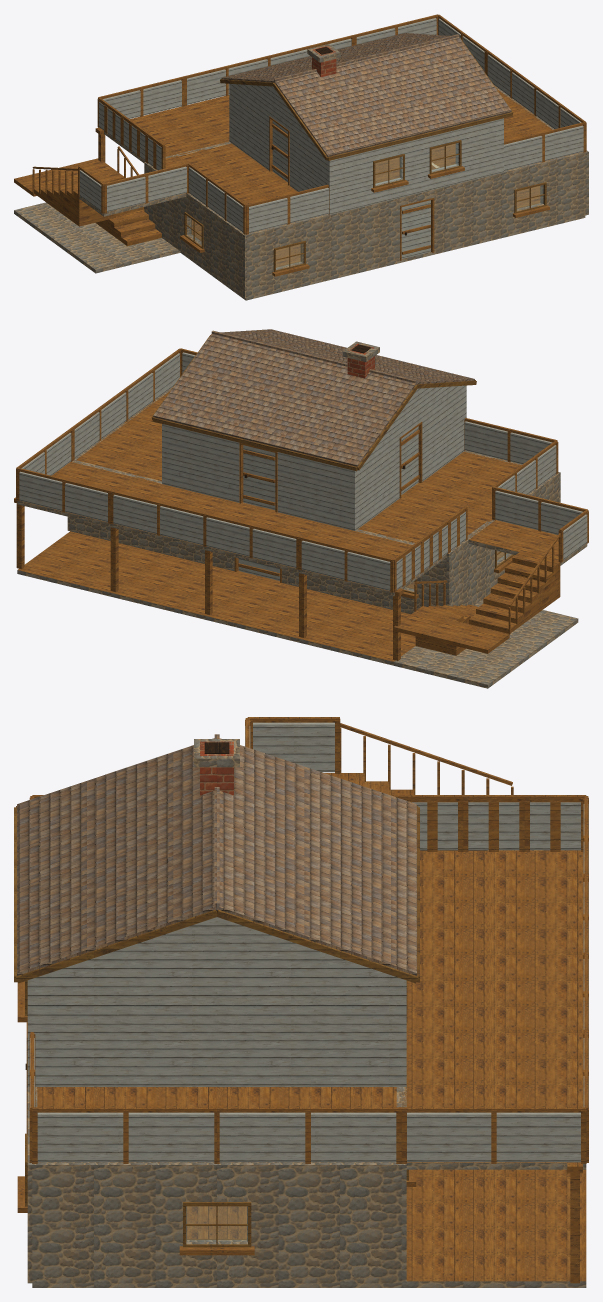
Rendered from frontier-headquarters.gltf.
3 views of the same model, one above another, from view 1: azimuth 30°, elevation 25°; view 2: azimuth 150°, elevation 25°; view 3: azimuth 270°, elevation 25° (orthographic). The views are drawn at different scales.
Visible parts, largest first — view 1: exterior-L0-stone, roof-L2-shingle, guards-L1-timber, exterior-L1-timber, floor-L1-wood, guards-L1-wood, floor-L0-stone, stairs-L0-wood, datum-band-L0-stone, roof-trim-L2-trim, door-L0-door, facade-trim-L0-trim (+13 smaller); view 2: roof-L2-shingle, guards-L1-timber, floor-L1-wood, floor-L0-wood, exterior-L1-timber, stairs-L0-wood, exterior-L0-stone, guards-L1-wood, floor-L0-stone, structure-L0-wood, door-L1-door (×2), floor-L1-stone (+6 smaller); view 3: roof-L2-shingle, floor-L1-wood, exterior-L1-timber, exterior-L0-stone, guards-L1-timber, floor-L0-wood, guards-L1-wood, gable-infill-L1-timber, roof-trim-L2-trim, datum-band-L0-stone, structure-L0-wood, floor-L0-stone (+9 smaller).
Part boxes in pixels (x1,y1,x2,y2): exterior-L0-stone: (144, 155, 588, 298); roof-L2-shingle: (221, 33, 511, 156); guards-L1-timber: (79, 18, 583, 233); exterior-L1-timber: (229, 83, 503, 214); floor-L1-wood: (107, 86, 582, 233); guards-L1-wood: (78, 14, 586, 234); floor-L0-stone: (14, 202, 585, 300); stairs-L0-wood: (14, 146, 161, 246); datum-band-L0-stone: (144, 85, 588, 239); roof-trim-L2-trim: (220, 38, 513, 160); door-L0-door: (401, 200, 430, 258); facade-trim-L0-trim: (184, 182, 546, 272); roof-L2-shingle: (153, 329, 474, 466); guards-L1-timber: (19, 352, 587, 590); floor-L1-wood: (20, 388, 558, 591); floor-L0-wood: (18, 531, 504, 661); exterior-L1-timber: (162, 385, 466, 530); stairs-L0-wood: (393, 533, 560, 655); exterior-L0-stone: (67, 477, 560, 614); guards-L1-wood: (16, 348, 588, 592); floor-L0-stone: (17, 570, 578, 688); structure-L0-wood: (14, 497, 403, 660); door-L1-door (×2): (243, 426, 418, 510); floor-L1-stone: (17, 501, 587, 595); roof-L2-shingle: (17, 738, 416, 975); floor-L1-wood: (35, 773, 583, 1162); exterior-L1-timber: (27, 975, 406, 1086); exterior-L0-stone: (27, 1171, 406, 1283); guards-L1-timber: (30, 722, 588, 1162); floor-L0-wood: (187, 1169, 586, 1281); guards-L1-wood: (29, 717, 588, 1163); gable-infill-L1-timber: (63, 917, 370, 968); roof-trim-L2-trim: (14, 806, 419, 983); datum-band-L0-stone: (27, 1087, 406, 1171); structure-L0-wood: (567, 850, 582, 1283); floor-L0-stone: (32, 1281, 586, 1287).
Bounding box in the file's own units: 15.28 × 6.19 × 9.35.
Materials: 10 (9 with a texture image).
